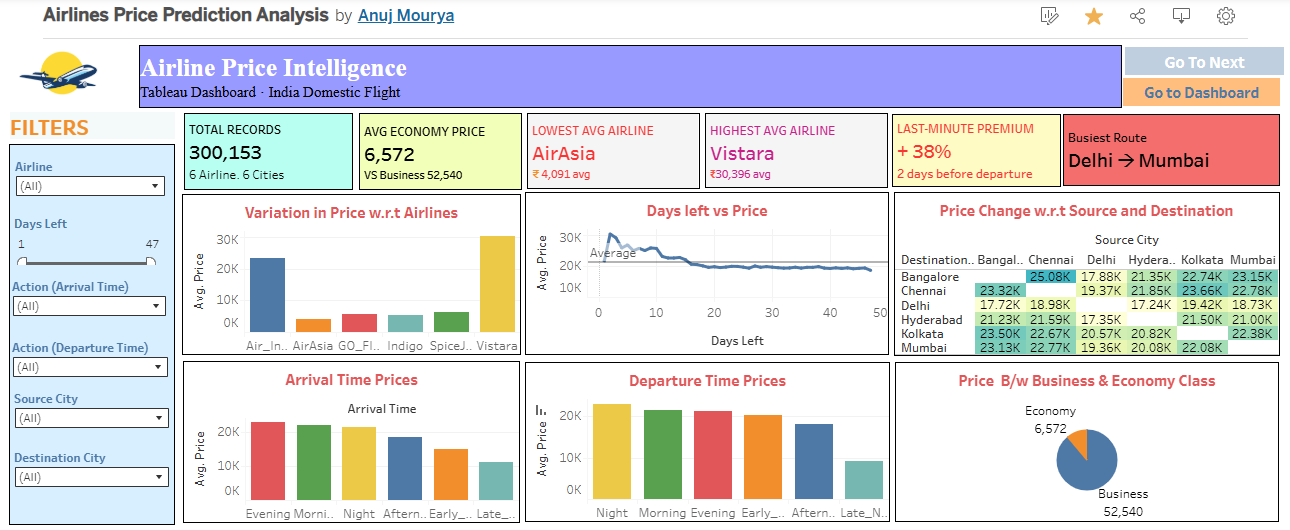

The page's visual inventory and layout, read from the dashboard file:
{"tool":"tableau","page":{"name":"Dashboard 1","canvas":[1000,1000],"units":"permille","ordinal":0},"visuals":[{"type":"text","box":[110.5,11,755.6,126.8]},{"type":"dashboard-object","box":[867.3,12.9,124.8,62.5]},{"type":"dashboard-object","box":[867.3,77.2,120.4,57]},{"type":"text","box":[11.7,145.2,126.4,55.1]},{"type":"worksheet","title":"Total Flights","mark":"Automatic","box":[145.6,147.1,129.7,154.4]},{"type":"worksheet","title":"Average Economy Price","mark":"Automatic","box":[279.5,148.9,125.5,152.6]},{"type":"worksheet","title":"Lowest Avg Airline","mark":"Text","box":[409.2,148.9,133.1,150.7]},{"type":"worksheet","title":"Highest Avg Airline","mark":"Text","box":[545.6,148.9,140.6,148.9]},{"type":"worksheet","title":"Last Minute Premium","mark":"Automatic","box":[689.5,150.7,129.7,145.2]},{"type":"worksheet","title":"Busiest Route","mark":"Automatic","box":[820.9,150.7,166.5,143.4]},{"type":"filter","title":"Price_Vary_with_Airlines","param":"[federated.06qow830jhk7yq122s8yz1l4y8n7].[none:airline:nk]","box":[15.1,235.3,116.3,95.6]},{"type":"worksheet","title":"Price change with change in source and destination","mark":"Square","rows":["destination_city"],"cols":["source_city"],"box":[691.2,305.2,296.2,329]},{"type":"worksheet","title":"Daysleft/Price","mark":"Automatic","rows":["price"],"cols":["days_left"],"box":[407.5,307,279.5,325.4]},{"type":"worksheet","title":"Price_Vary_with_Airlines","mark":"Automatic","rows":["price"],"cols":["airline"],"box":[143.9,310.7,260.2,321.7]},{"type":"filter","title":"Daysleft/Price","param":"[federated.06qow830jhk7yq122s8yz1l4y8n7].[none:days_left:qk]","box":[14.2,349.3,114.6,102.9]},{"type":"filter","title":"Daysleft/Price","param":"[federated.06qow830jhk7yq122s8yz1l4y8n7].[Action (Arrival Time)]","box":[13.4,476.1,118.8,117.7]},{"type":"filter","title":"Daysleft/Price","param":"[federated.06qow830jhk7yq122s8yz1l4y8n7].[Action (Departure Time)]","box":[13.4,597.4,120.5,97.4]},{"type":"worksheet","title":"Arrival_time vs Price","mark":"Automatic","rows":["price"],"cols":["arrival_time"],"box":[144.8,643.4,258.6,325.4]},{"type":"worksheet","title":"Departure_time vs Price","mark":"Automatic","rows":["price"],"cols":["departure_time"],"box":[407.5,645.2,280.3,321.7]},{"type":"worksheet","title":"Price variation b/w Business & Economy class","mark":"Pie","box":[692.1,645.2,294.6,321.7]},{"type":"filter","title":"Price change with change in source and destination","param":"[federated.06qow830jhk7yq122s8yz1l4y8n7].[none:source_city:nk]","box":[14.2,700.4,120.5,117.7]},{"type":"filter","title":"Price change with change in source and destination","param":"[federated.06qow830jhk7yq122s8yz1l4y8n7].[none:destination_city:nk]","box":[14.2,818,120.5,112.1]}]}

Visuals, with their boxes on the dashboard's canvas, which has no fixed pixel size, in thousandths of its width and height (x1, y1, x2, y2). These are canvas units, not pixel positions in the 1290x530 screenshot, which may show the page scaled, cropped or inside an application window:
text: (110, 11, 866, 138)
dashboard-object: (867, 13, 992, 75)
dashboard-object: (867, 77, 988, 134)
text: (12, 145, 138, 200)
"Total Flights" worksheet: (146, 147, 275, 302)
"Average Economy Price" worksheet: (280, 149, 405, 302)
"Lowest Avg Airline" worksheet (Text marks): (409, 149, 542, 300)
"Highest Avg Airline" worksheet (Text marks): (546, 149, 686, 298)
"Last Minute Premium" worksheet: (690, 151, 819, 296)
"Busiest Route" worksheet: (821, 151, 987, 294)
"Price_Vary_with_Airlines" filter: (15, 235, 131, 331)
"Price change with change in source and destination" worksheet (Square marks): (691, 305, 987, 634)
"Daysleft/Price" worksheet: (408, 307, 687, 632)
"Price_Vary_with_Airlines" worksheet: (144, 311, 404, 632)
"Daysleft/Price" filter: (14, 349, 129, 452)
"Daysleft/Price" filter: (13, 476, 132, 594)
"Daysleft/Price" filter: (13, 597, 134, 695)
"Arrival_time vs Price" worksheet: (145, 643, 403, 969)
"Departure_time vs Price" worksheet: (408, 645, 688, 967)
"Price variation b/w Business & Economy class" worksheet (Pie marks): (692, 645, 987, 967)
"Price change with change in source and destination" filter: (14, 700, 135, 818)
"Price change with change in source and destination" filter: (14, 818, 135, 930)
